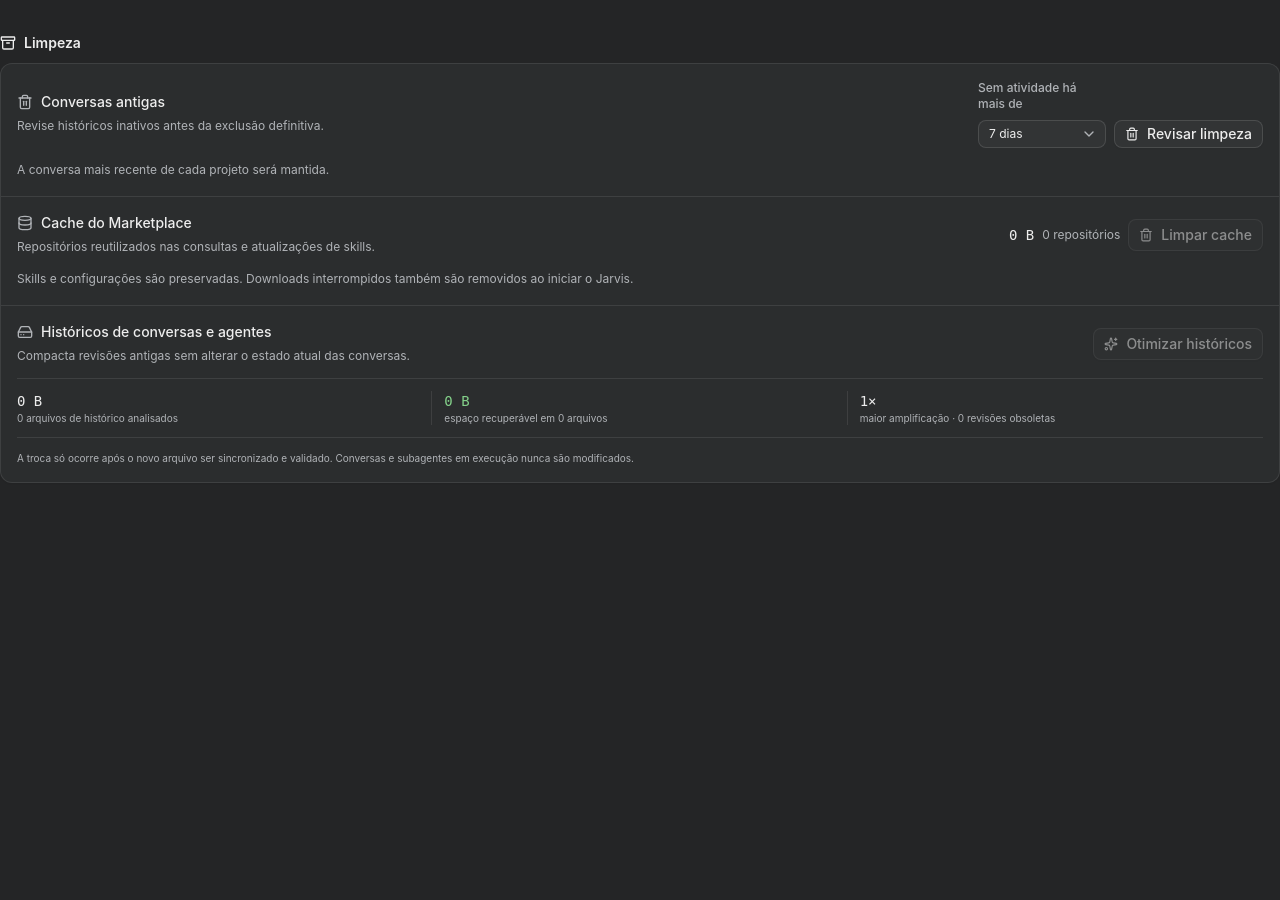
Test case: conversation cleanup › allows cancelling without deleting and shows an empty analysis
Click the button "Revisar limpeza". click: click(1188, 134)
box: [1114, 120, 1263, 148]
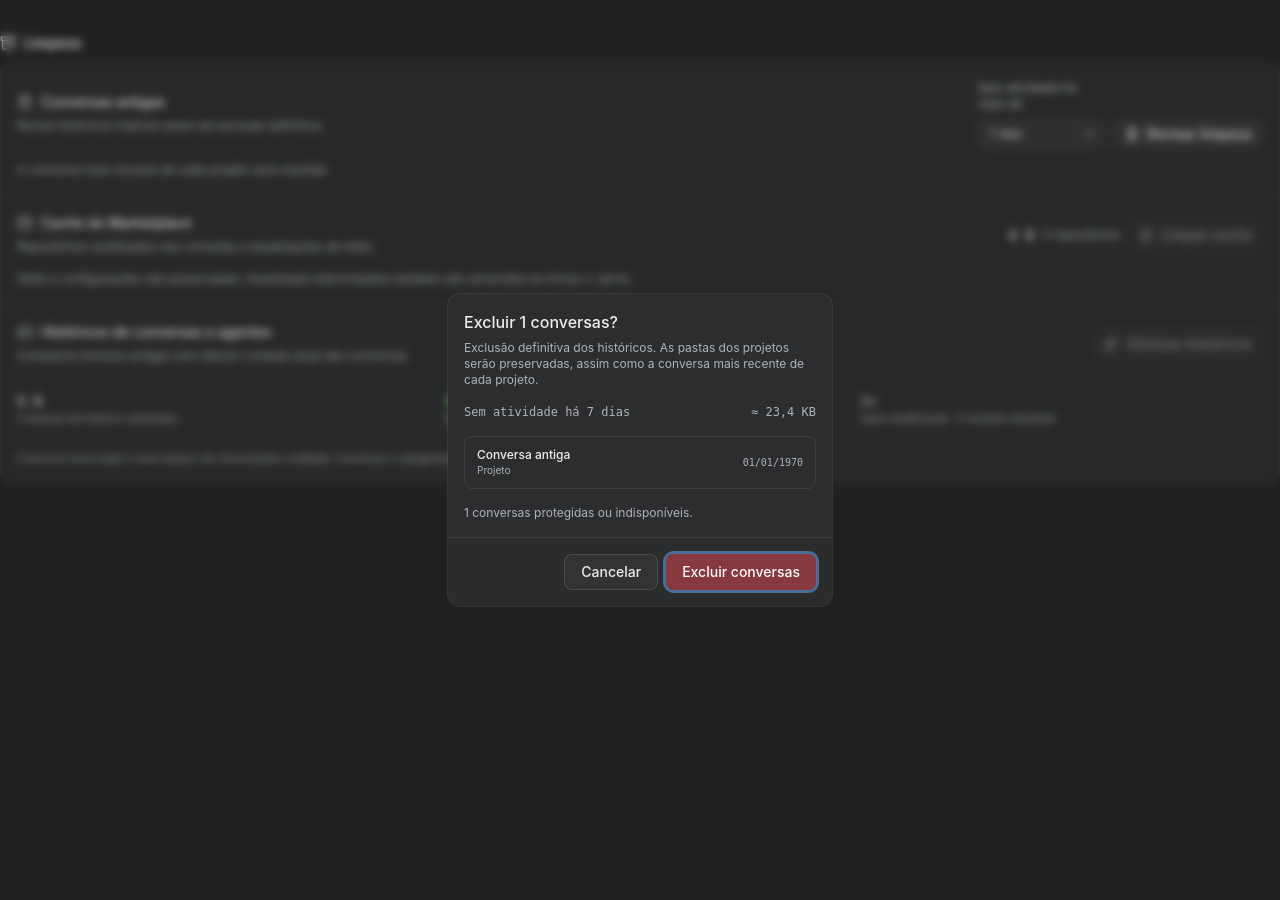
Click the button "Cancelar". click: click(611, 572)
box: [564, 554, 658, 590]
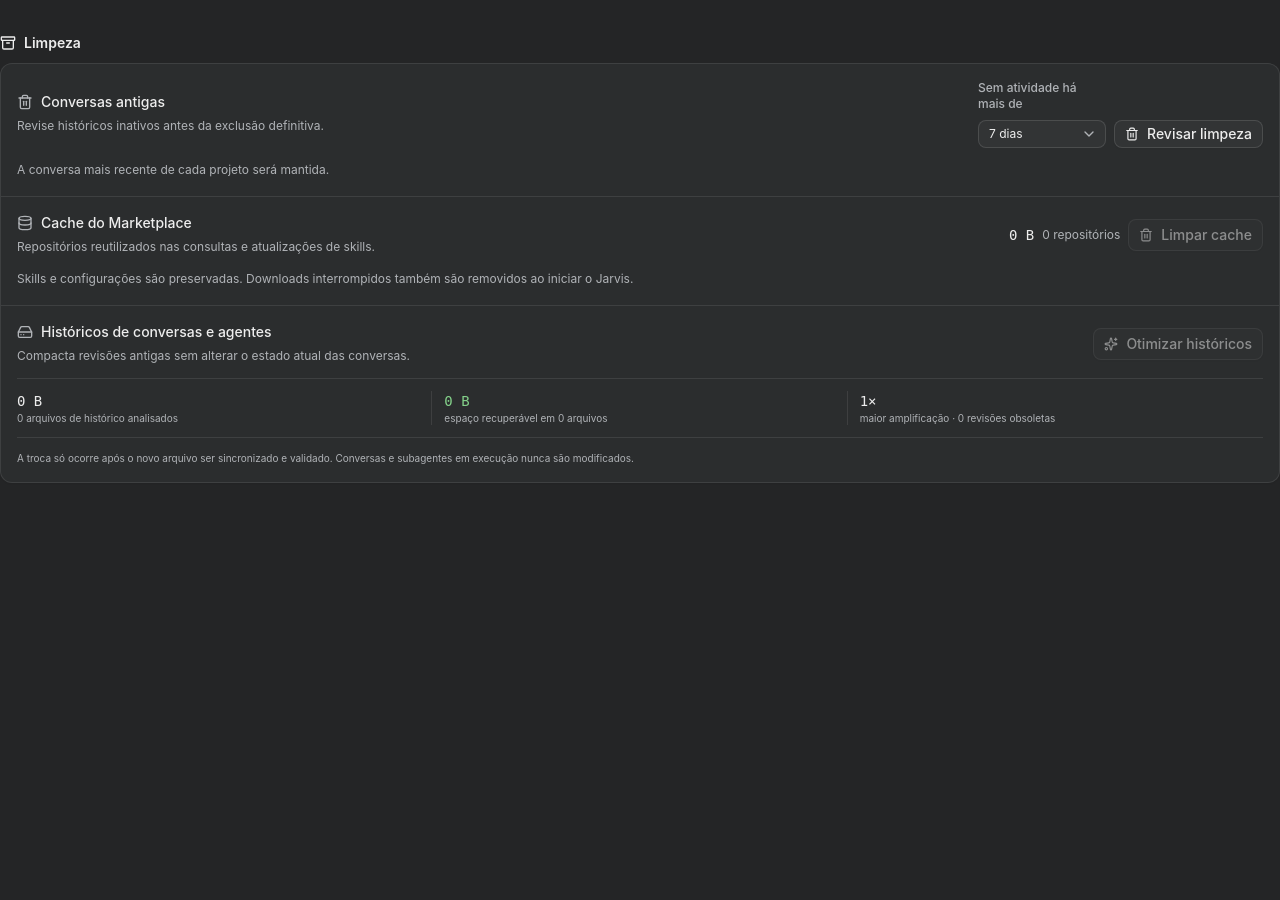
Click the button "Revisar limpeza". click: click(1188, 134)
box: [1114, 120, 1263, 148]
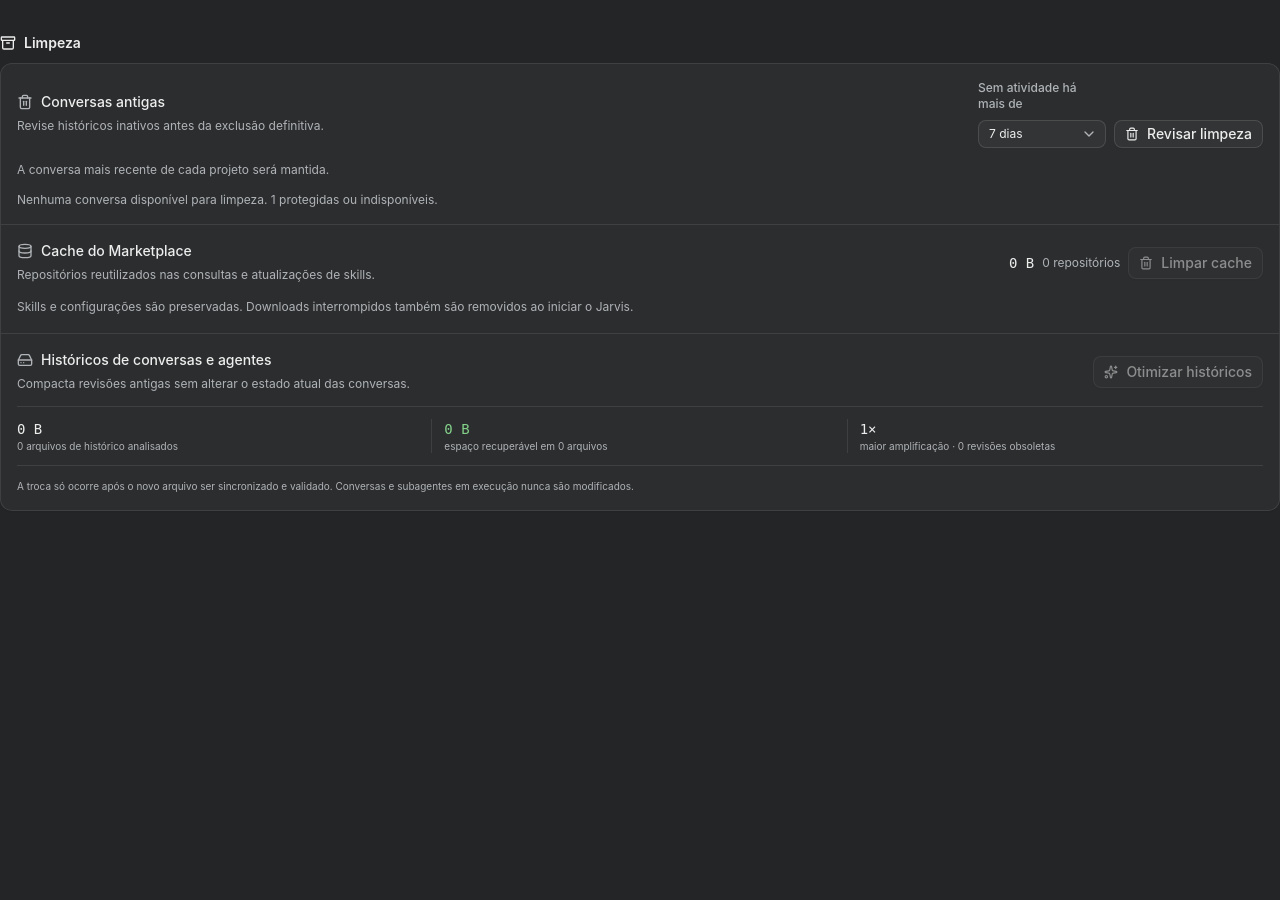
Result: the message shows "Nenhuma conversa disponível" at [17, 192, 268, 207]
